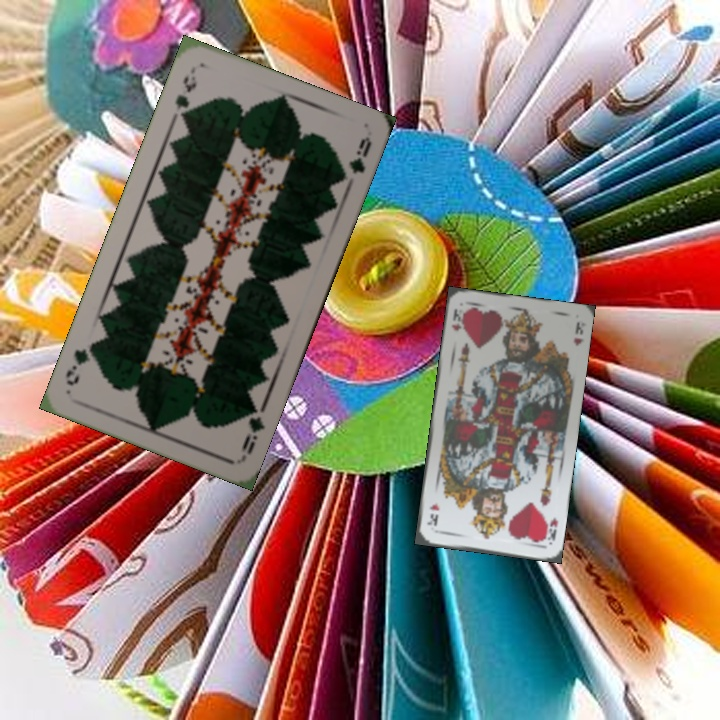G9: (168, 65, 200, 125), (237, 400, 268, 460)
HK: (540, 514, 561, 546), (448, 305, 468, 333)
